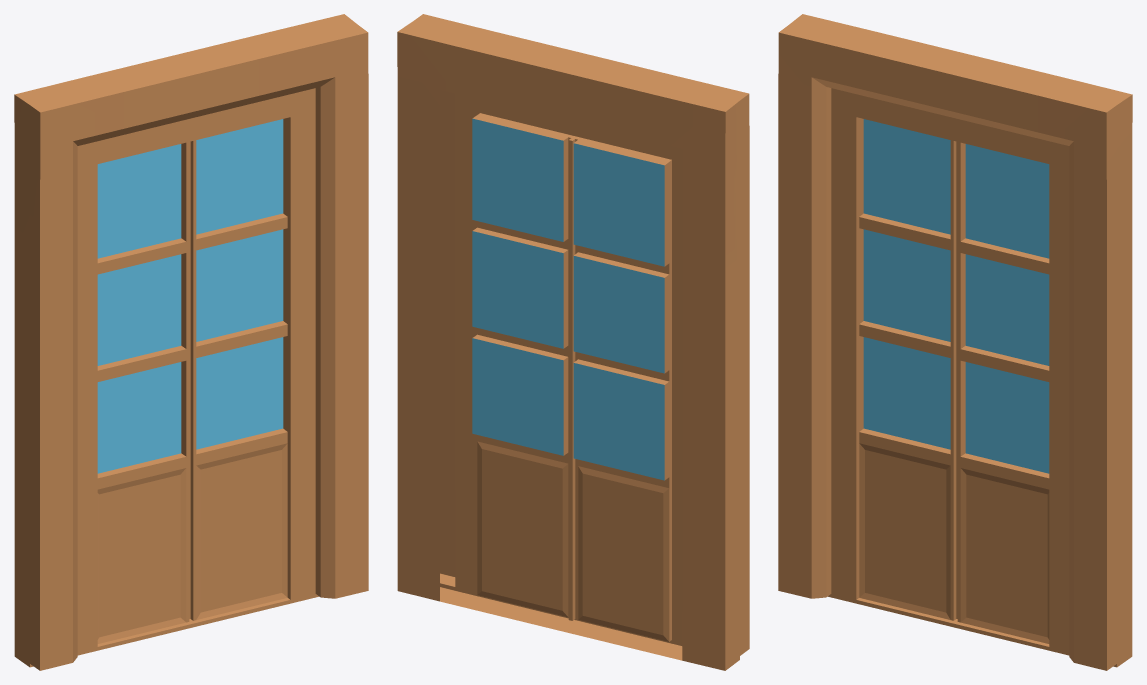
File: DoorType1Cadre.fbx
3 renders of one model, left to right at view 1: azimuth 30°, elevation 25°; view 2: azimuth 150°, elevation 25°; view 3: azimuth 330°, elevation 25°, orthographic.
Visible parts, largest first — view 1: DoorType1Cadre; view 2: DoorType1Cadre; view 3: DoorType1Cadre.
Part boxes in pixels (x1=…): DoorType1Cadre: x1=14, y1=14, x2=368, y2=670; DoorType1Cadre: x1=397, y1=14, x2=749, y2=670; DoorType1Cadre: x1=778, y1=14, x2=1132, y2=670.
Size of the model in its own units: 1.96 by 0.2596 by 3.2.
